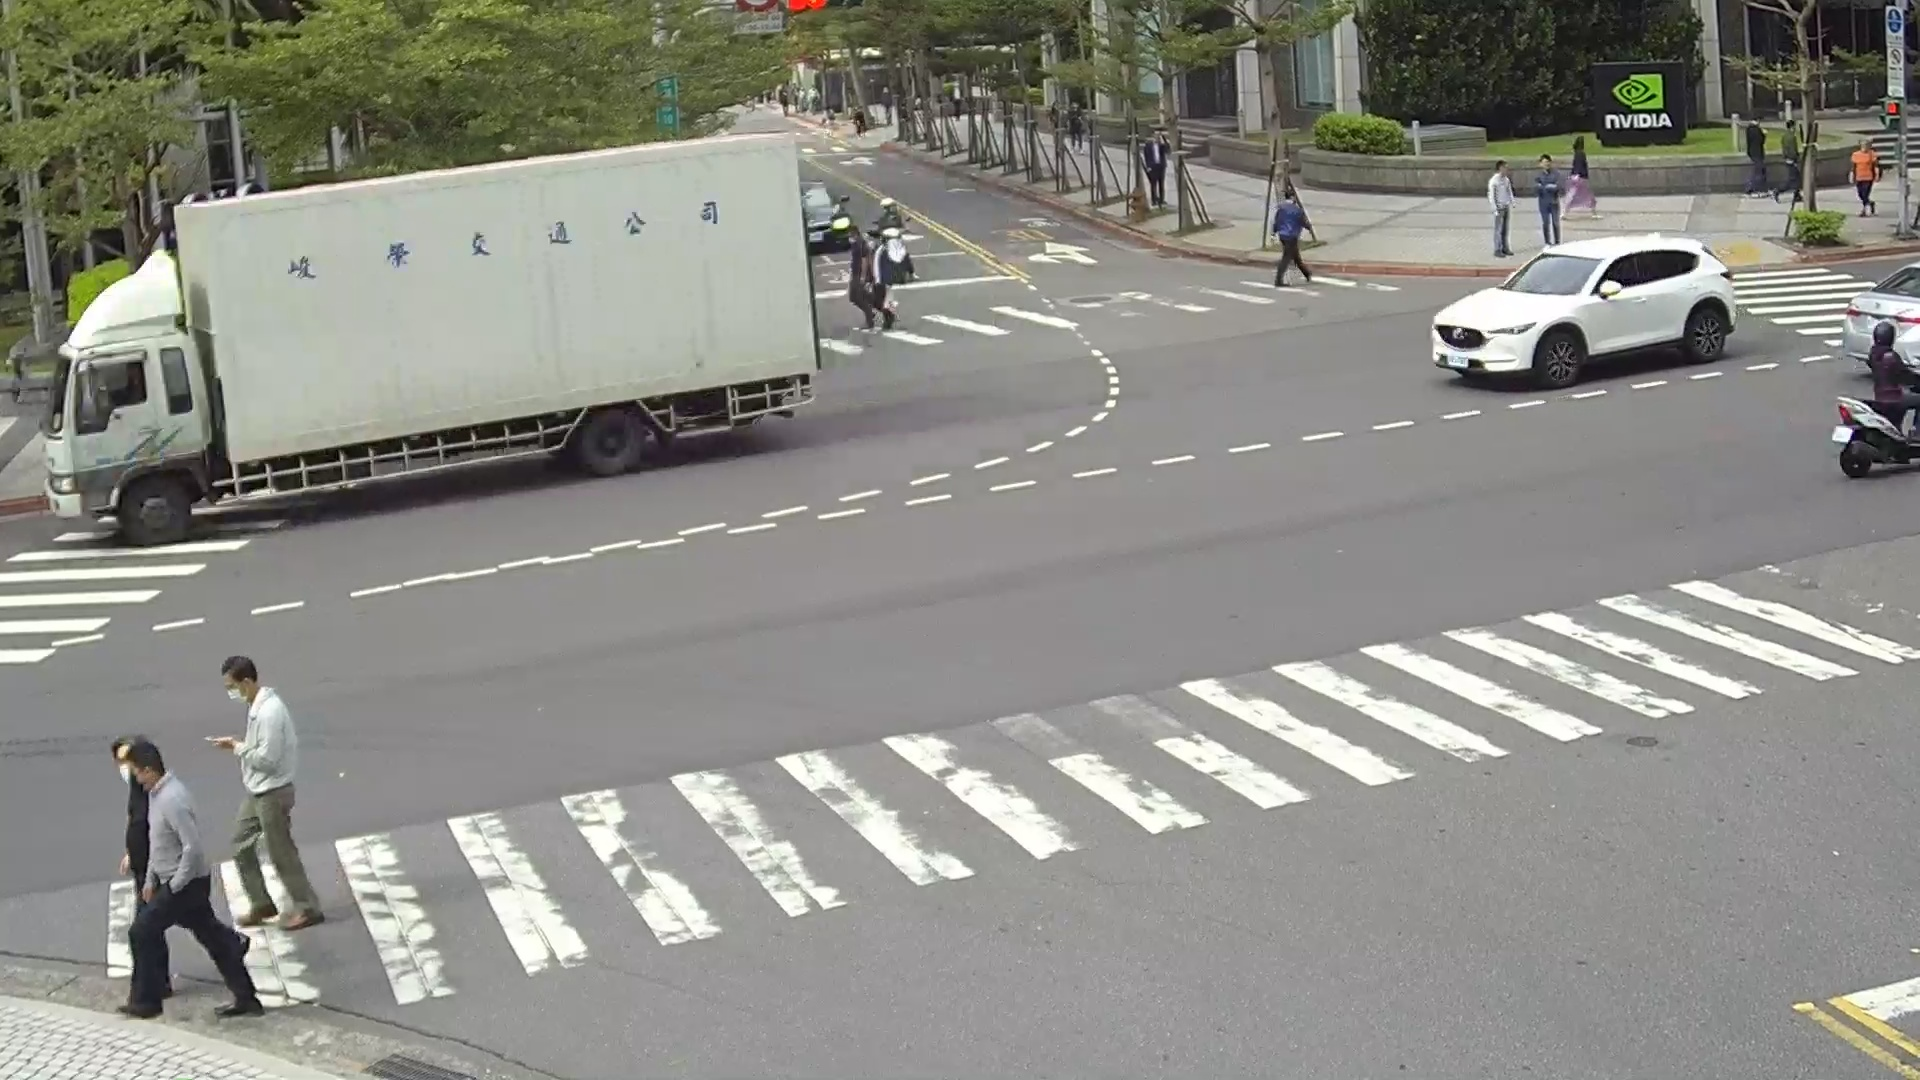bike: (1828, 390, 1920, 479)
pedestrian: (110, 737, 271, 1026), (205, 655, 322, 927), (1863, 317, 1920, 438), (1269, 190, 1316, 287), (1531, 154, 1566, 246), (865, 234, 895, 323), (1563, 135, 1597, 213), (1487, 159, 1515, 254), (874, 222, 915, 284), (844, 228, 867, 323), (1850, 140, 1878, 216), (1140, 133, 1165, 211), (1743, 120, 1768, 197), (1781, 122, 1800, 202), (871, 197, 906, 238)
vehicle: (41, 131, 827, 557), (1430, 230, 1740, 389), (1834, 261, 1920, 378), (802, 182, 852, 255)
